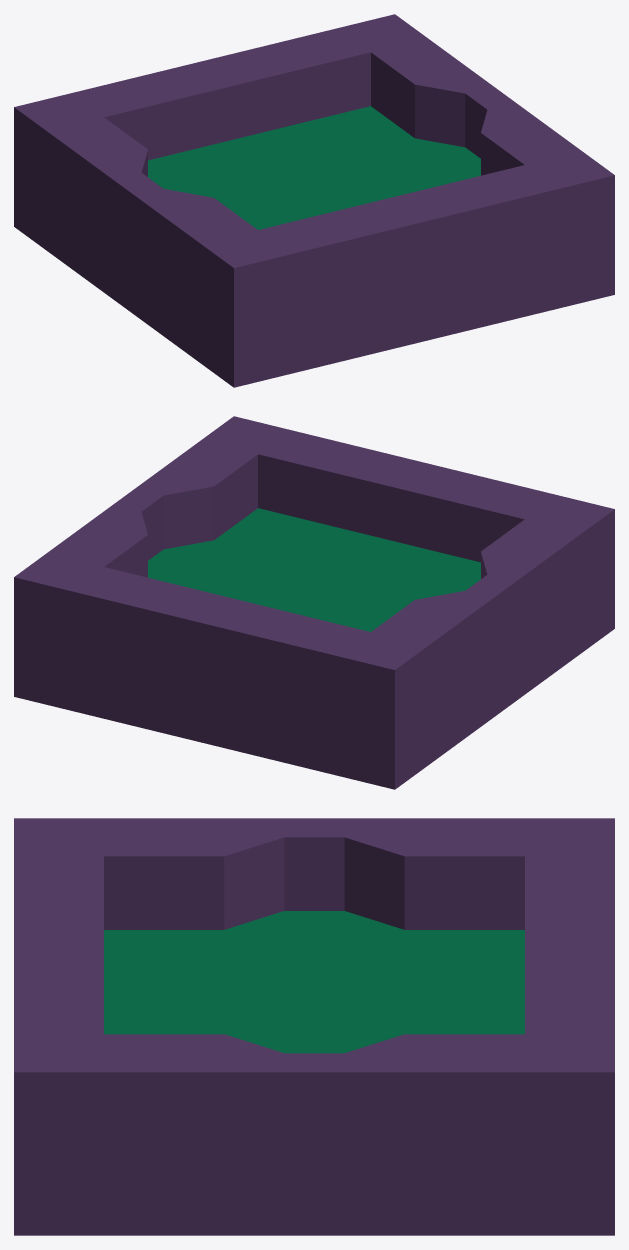
Rendered from chip-slot.fbx.
3 views of the same model, one above another, from view 1: azimuth 30°, elevation 25°; view 2: azimuth 150°, elevation 25°; view 3: azimuth 270°, elevation 25° (orthographic). The views are drawn at different scales.
Parts seen in each view (by area): view 1: Cube; view 2: Cube; view 3: Cube.
Boxes of the visible parts, x1,y1,x2,y2 form: Cube: [14, 14, 614, 387]; Cube: [14, 416, 614, 789]; Cube: [14, 818, 614, 1235].
Size of the model in its own units: 200 by 60 by 200.
1 material, 1 textured.
